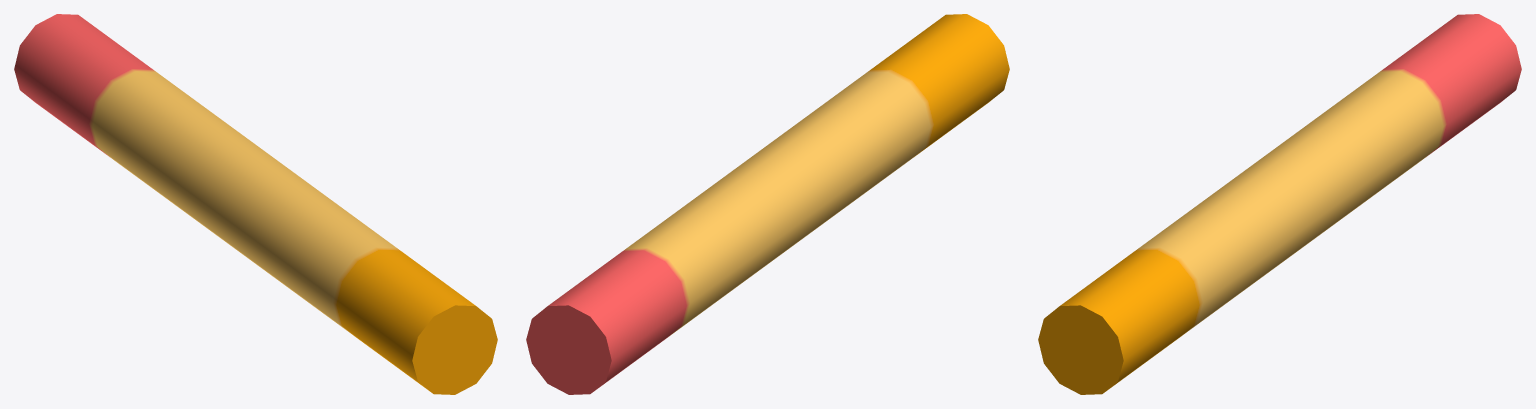
File: Relay.FBX
3 views of the same model, side by side, from view 1: azimuth 30°, elevation 25°; view 2: azimuth 150°, elevation 25°; view 3: azimuth 330°, elevation 25° (orthographic).
Parts seen in each view (by area): view 1: Relay; view 2: Relay; view 3: Relay.
Boxes of the visible parts, <box> form: Relay: <box>14,14,497,394</box>; Relay: <box>526,14,1009,394</box>; Relay: <box>1038,14,1521,394</box>.
Bounding box in the file's own units: 0.3716 × 0.3716 × 2.99.
